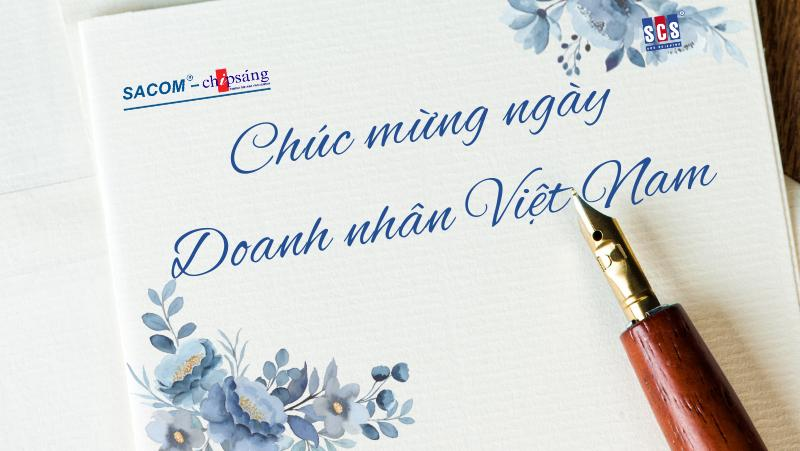text: (168, 155, 720, 281), (227, 81, 612, 177), (118, 62, 276, 108), (639, 13, 685, 45)
